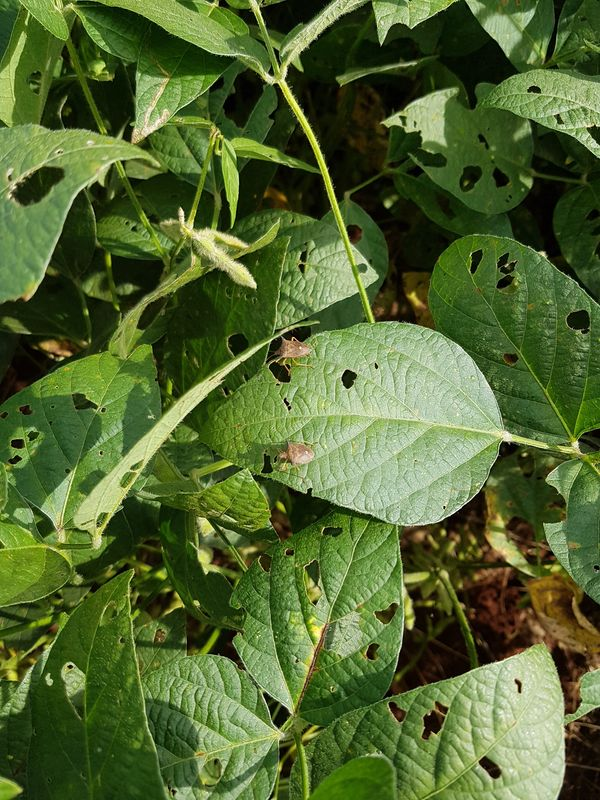Euschistus_heros_adulto: (268, 433, 328, 477), (266, 331, 324, 375)
